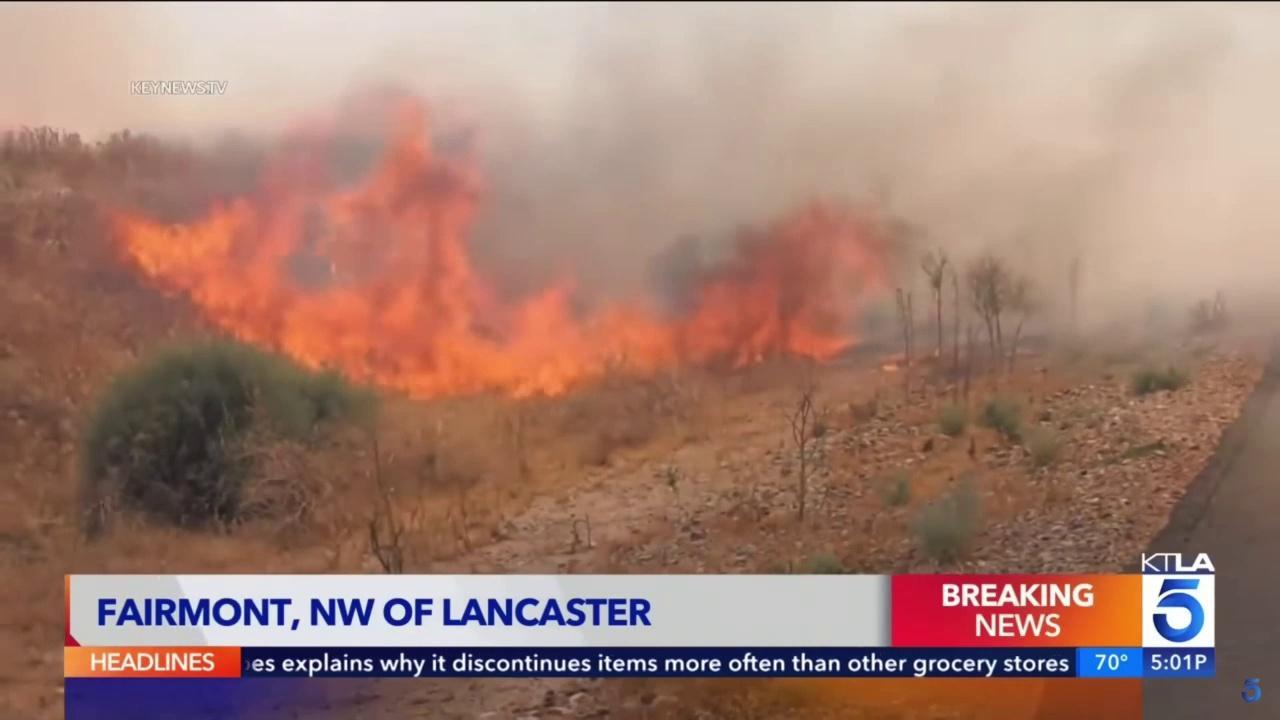fire: (104, 95, 891, 402)
smoke: (101, 3, 1280, 371)
